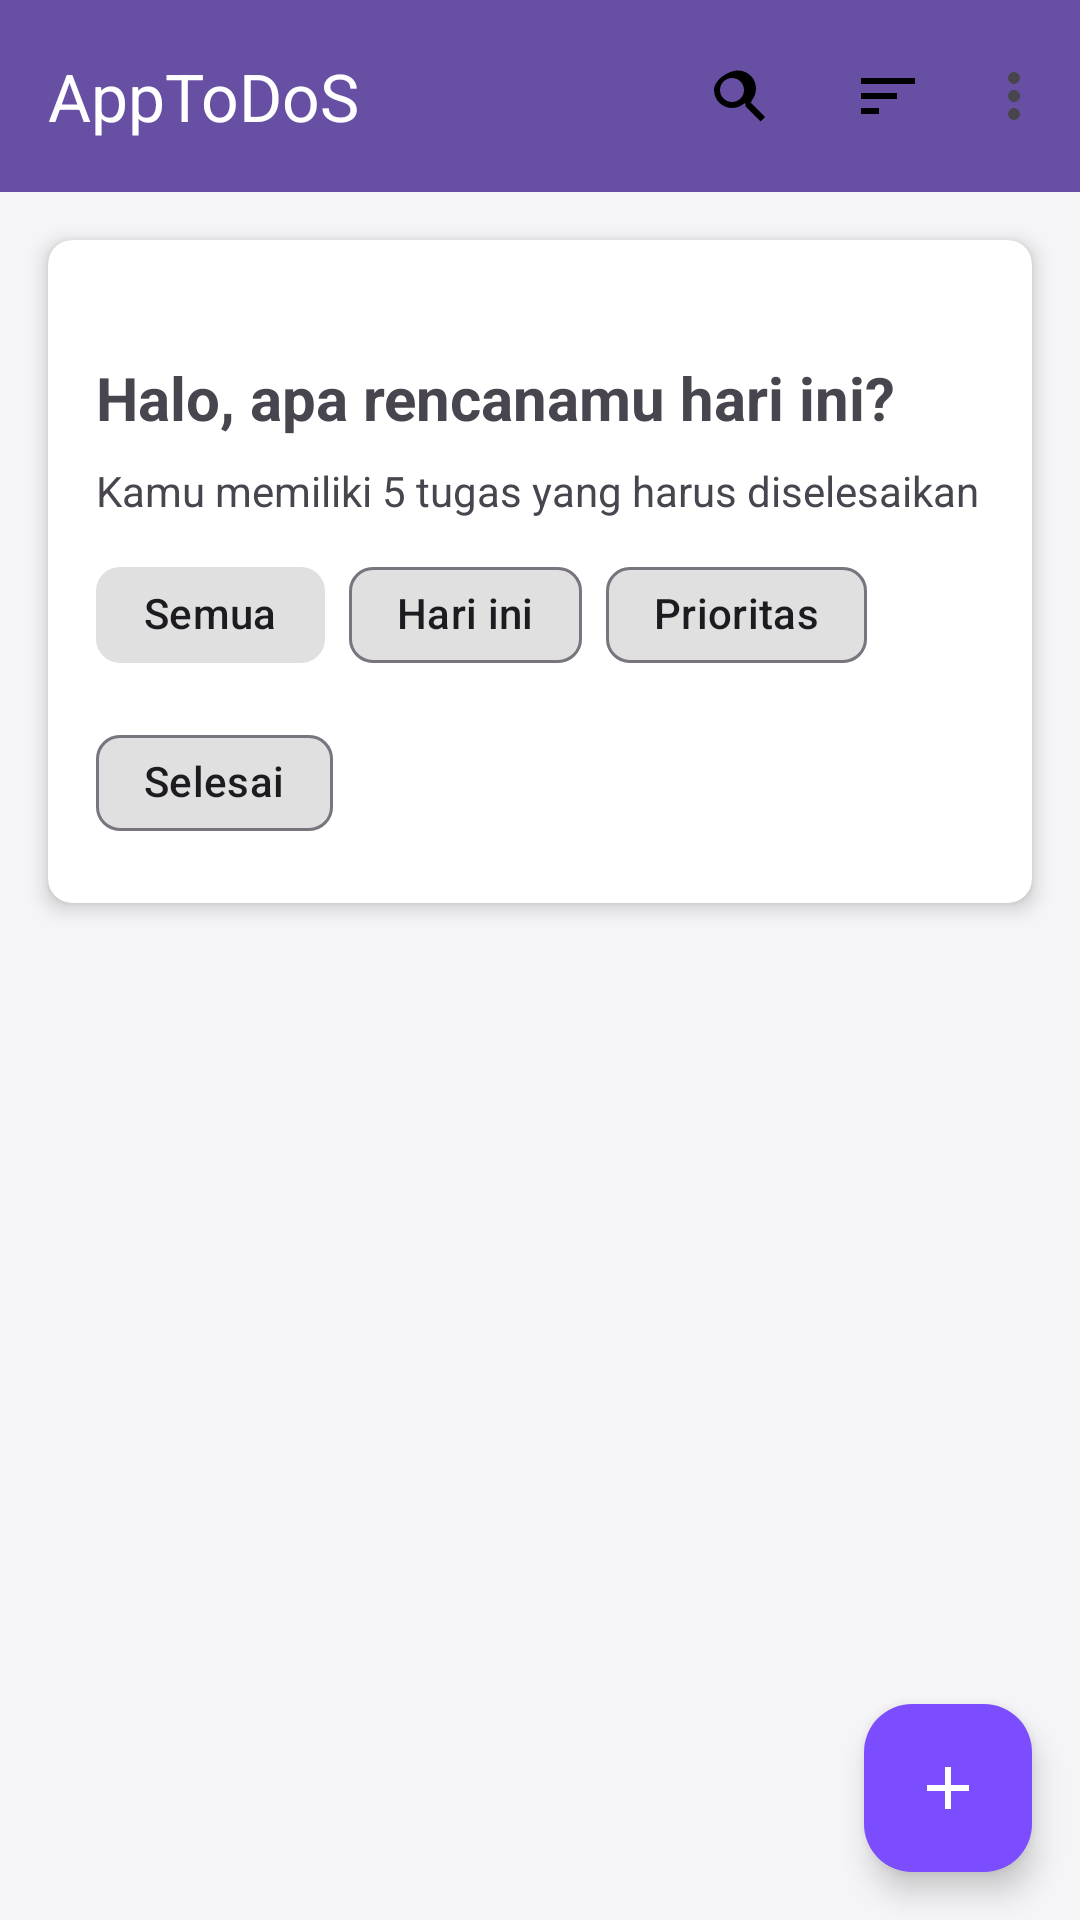

Named icons in this screenshot (1080*1920) and their bounding boxes, (x1, y1, x2, y2):
Tambah tugas baru: (864, 1704, 1032, 1872)
